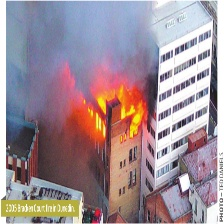fire: (77, 87, 146, 141)
smoke: (8, 1, 157, 95)
